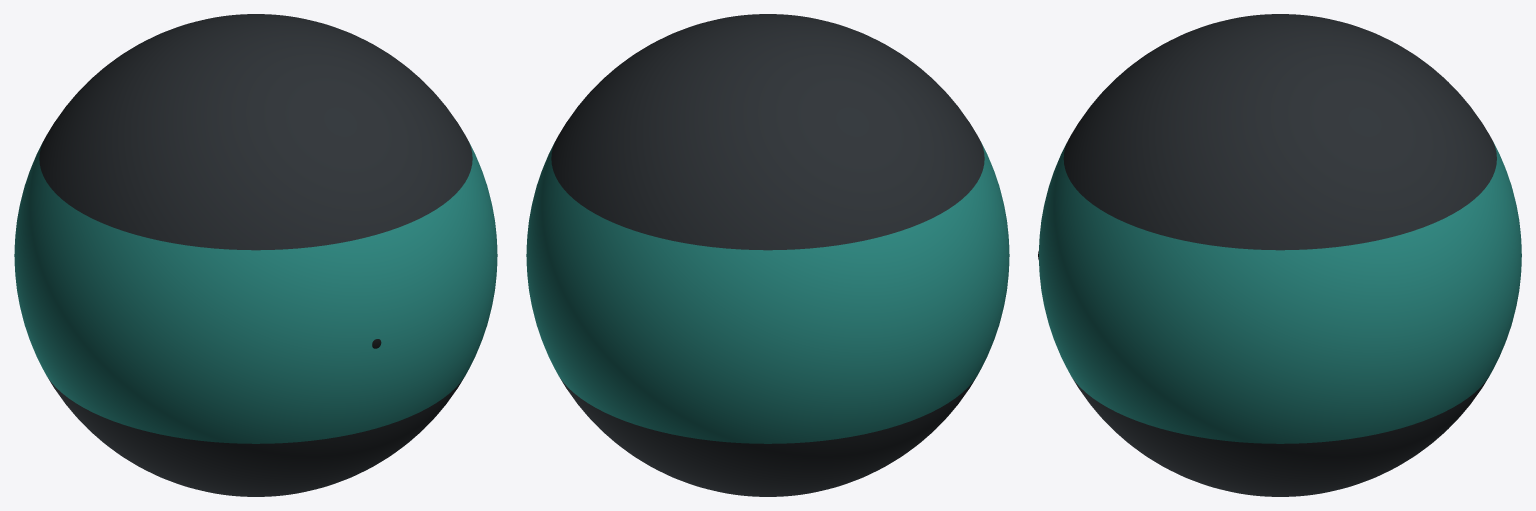
3 renders of one model, left to right at view 1: azimuth 30°, elevation 25°; view 2: azimuth 150°, elevation 25°; view 3: azimuth 270°, elevation 25°, orthographic.
Parts seen in each view (by area): view 1: EXPORT_BALL_Shell; view 2: EXPORT_BALL_Shell; view 3: EXPORT_BALL_Shell.
Boxes of the visible parts, x1=… form: EXPORT_BALL_Shell: x1=14, y1=14, x2=497, y2=496; EXPORT_BALL_Shell: x1=526, y1=14, x2=1009, y2=496; EXPORT_BALL_Shell: x1=1038, y1=14, x2=1521, y2=496.
Size of the model in its own units: 0.28 by 0.28 by 0.2804.
